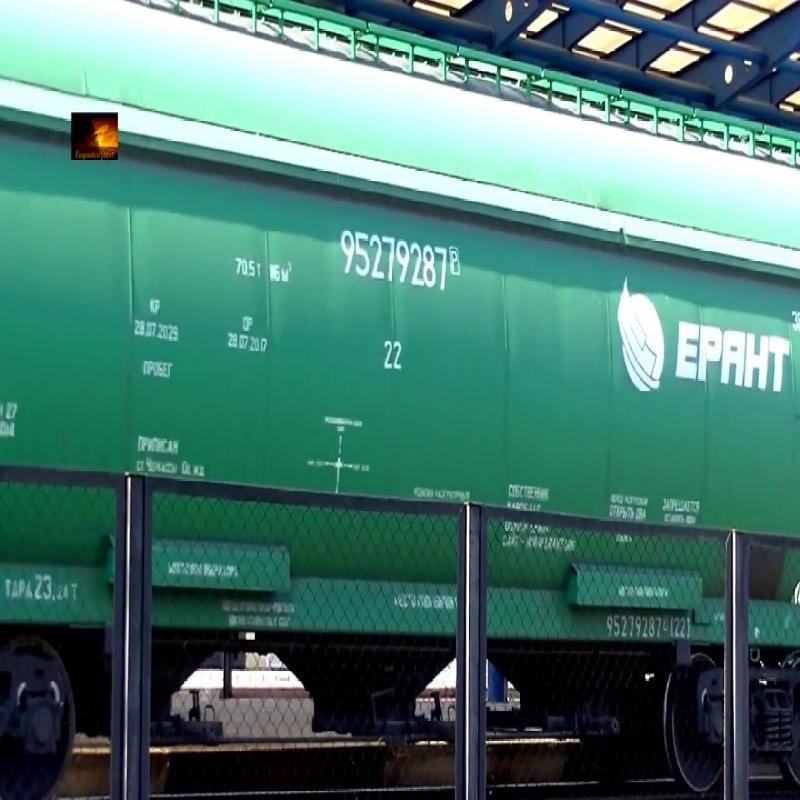train: (29, 1, 800, 763)
